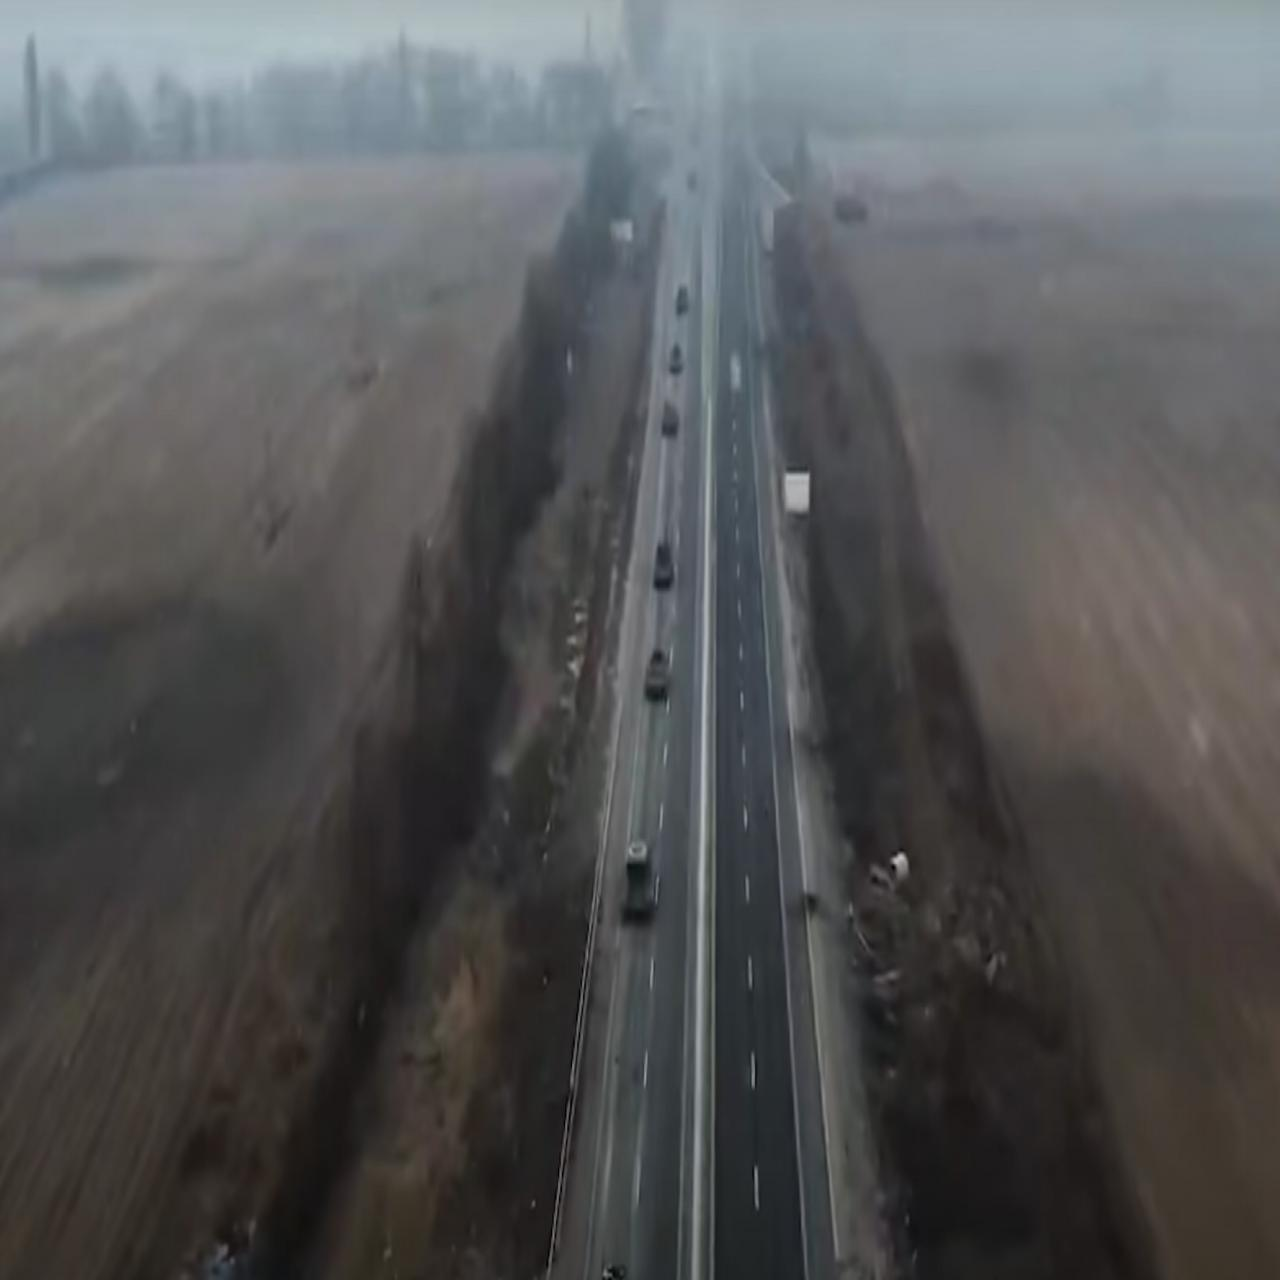MIL_Veh: (607, 832, 659, 930), (640, 642, 672, 707), (651, 530, 676, 594)
